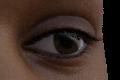eye: (53, 32, 80, 55)
